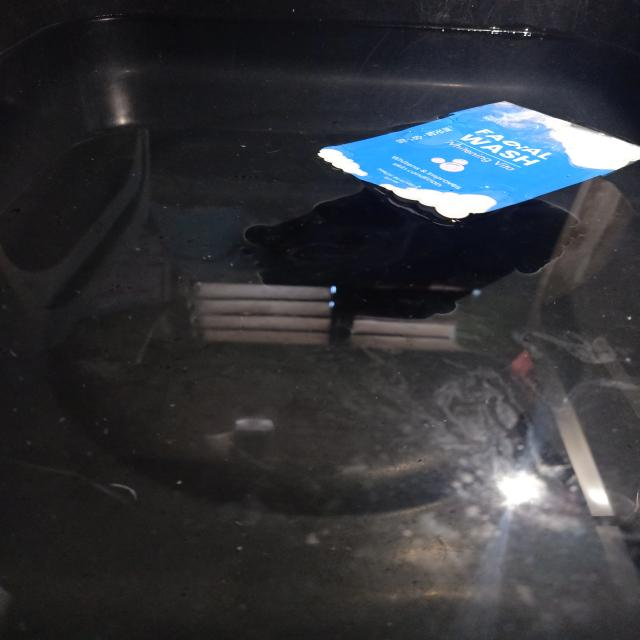Plastic Pouch: (319, 102, 640, 218)
